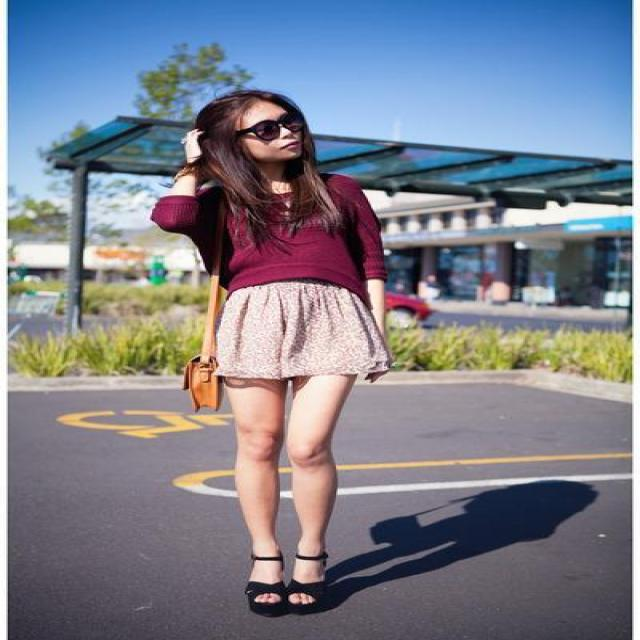bag: (189, 337, 248, 410)
shirt: (150, 174, 404, 309)
shoe: (245, 579, 315, 617)
skirt: (190, 275, 386, 384)
sunglass: (250, 96, 314, 140)
